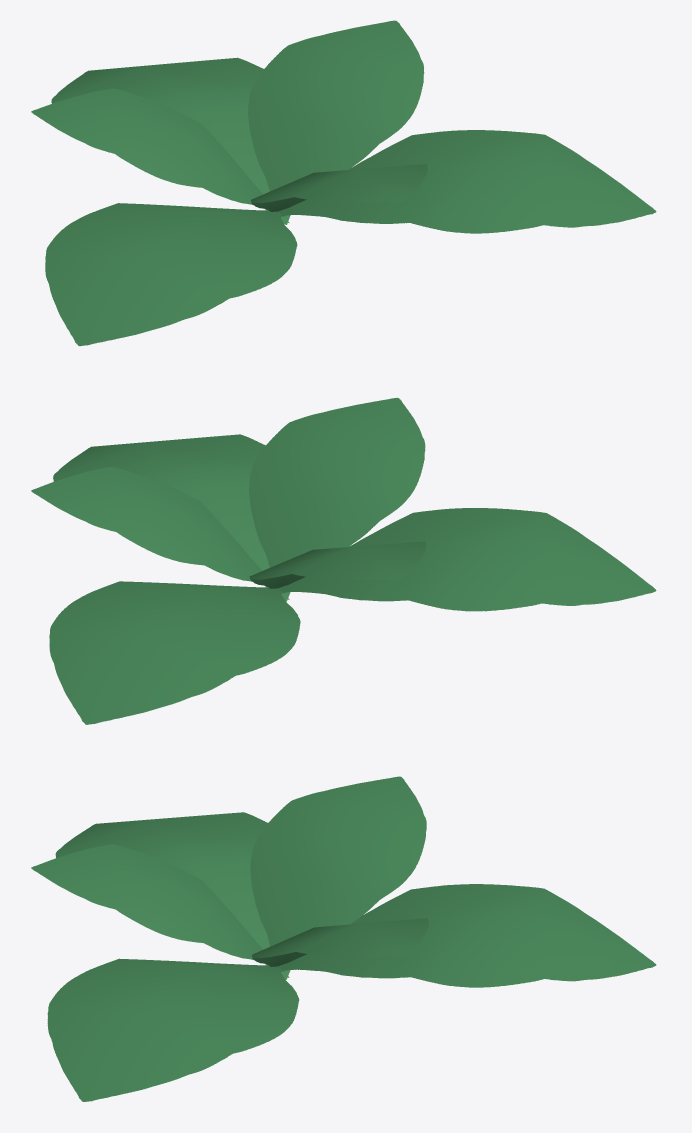
The model's file is LeafPlant2.fbx.
3 renders of one model, top to bottom at view 1: azimuth 30°, elevation 25°; view 2: azimuth 150°, elevation 25°; view 3: azimuth 270°, elevation 25°, orthographic.
Visible parts, largest first — view 1: Leaf Plant 2; view 2: Leaf Plant 2; view 3: Leaf Plant 2.
Part boxes in pixels (<box>): Leaf Plant 2: <box>31,20,656,346</box>; Leaf Plant 2: <box>31,397,656,724</box>; Leaf Plant 2: <box>31,776,656,1101</box>.
Size of the model in its own units: 76.73 by 13.54 by 73.17.
